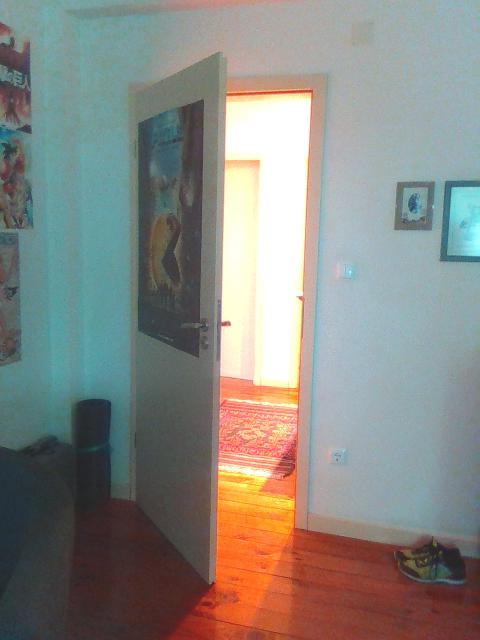semi_door: (129, 49, 329, 587)
